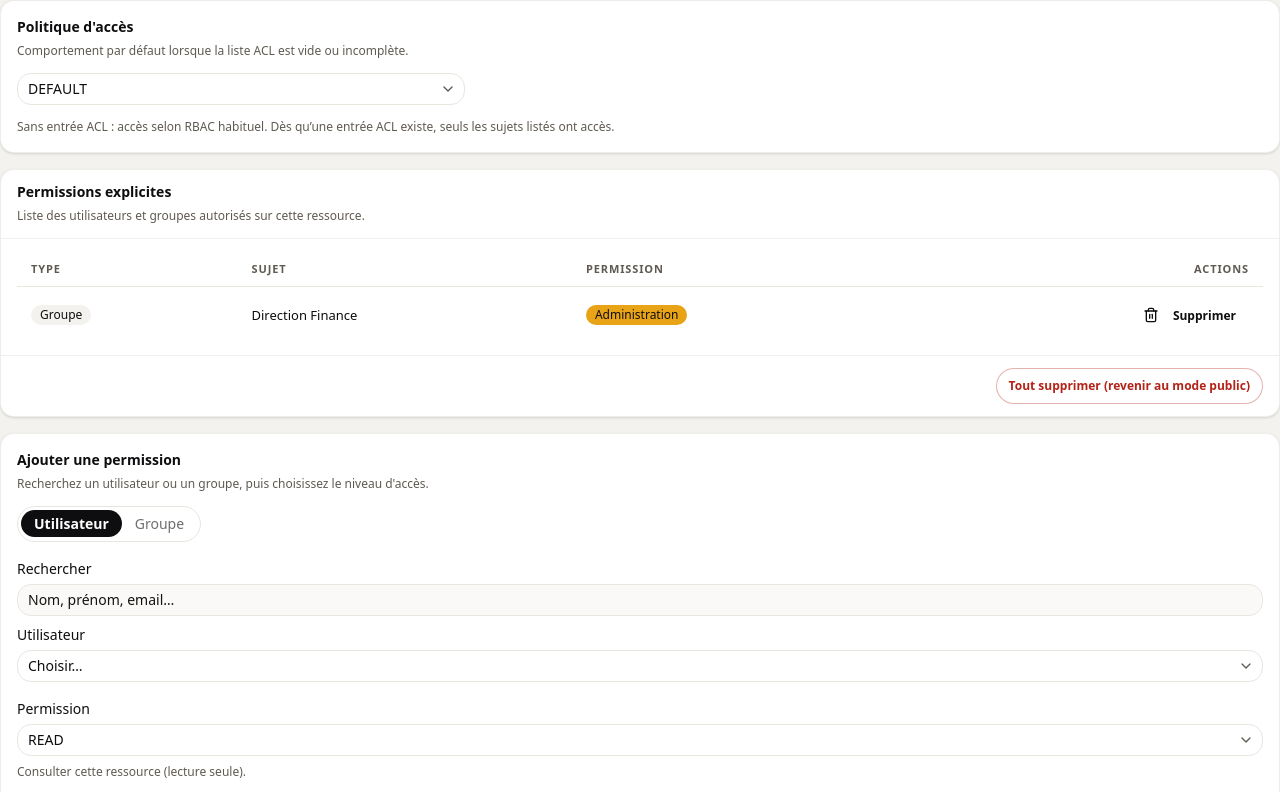
ResourceAclEditor — self-lockout (test imposé n°4) › cas B : seule capacité ADMIN via GROUP → DELETE du groupe bloqué
Click the button with aria-label "Supprimer Direction Finance": (1189,315) [1130,297,1249,333]
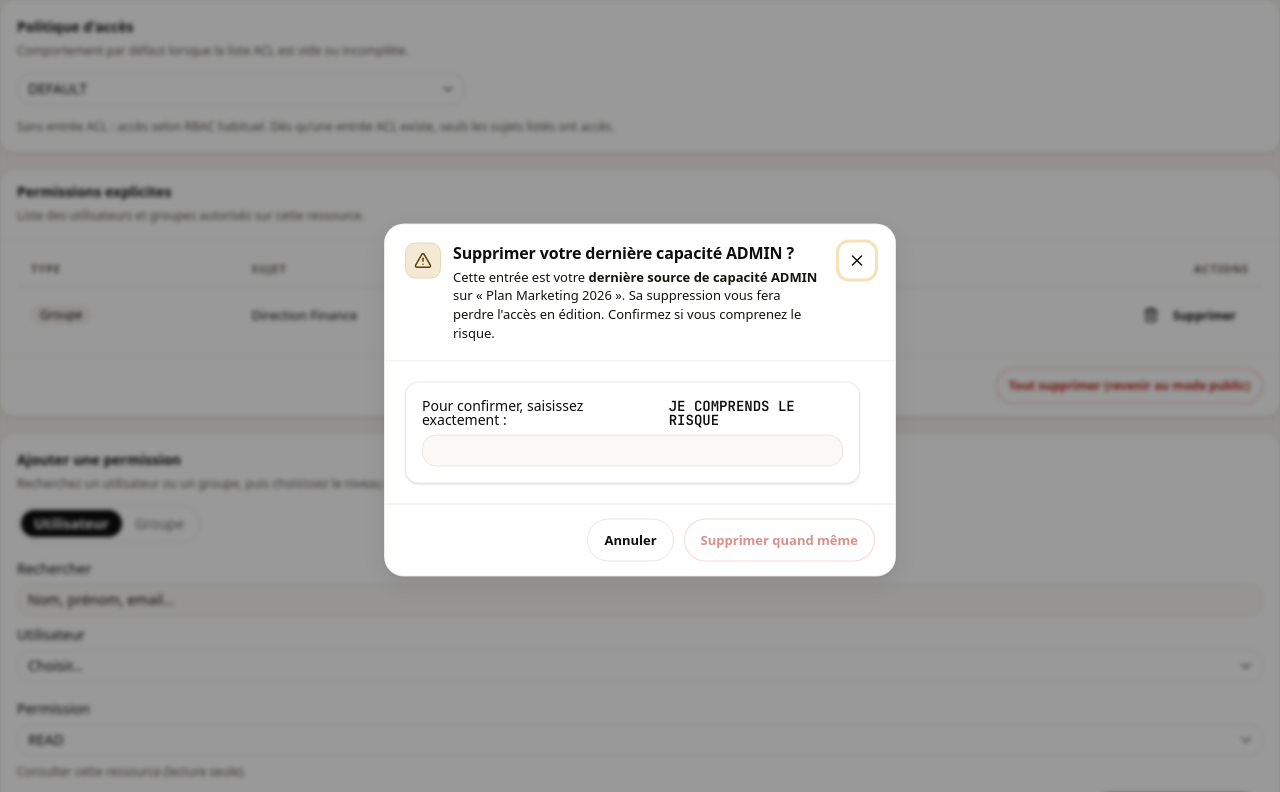
Expected: the heading "Supprimer votre dernière capacité ADMIN ?" is shown, [453,242,819,264]
